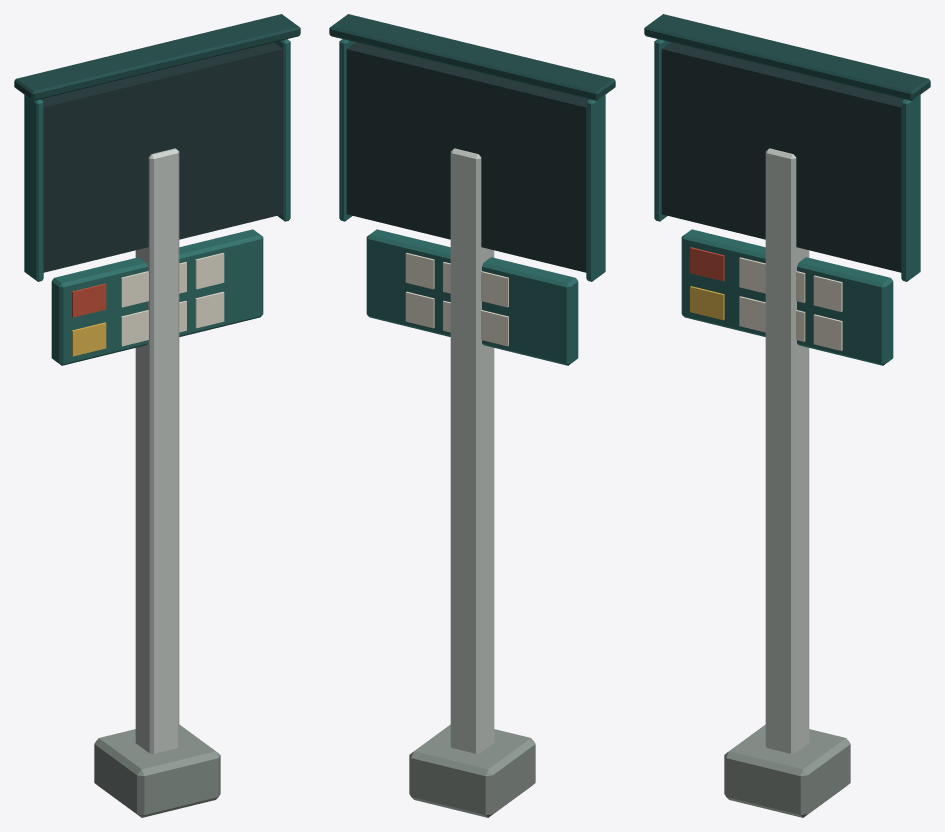
Rendered from sm_env_service_totem.glb.
3 renders of one model, left to right at view 1: azimuth 30°, elevation 25°; view 2: azimuth 150°, elevation 25°; view 3: azimuth 330°, elevation 25°, orthographic.
Parts seen in each view (by area): view 1: BoardFace, Pole, PricePanel, Plinth, BoardRoof, BoardFrameL, BoardFrameR, PriceChip, PriceChip.001, PriceDigit.010, PriceDigit.004, PriceDigit.006 (+1 smaller); view 2: BoardFace, Pole, PricePanel, Plinth, BoardRoof, BoardFrameL, BoardFrameR, PriceDigit.011, PriceDigit.005, PriceDigit.007, PriceDigit.001; view 3: BoardFace, Pole, PricePanel, Plinth, BoardRoof, BoardFrameR, BoardFrameL, PriceChip, PriceChip.001, PriceDigit.004, PriceDigit.010, PriceDigit (+1 smaller).
Boxes of the visible parts, x1,y1,x2,y2 form: BoardFace: (41, 42, 283, 272); Pole: (135, 148, 179, 753); PricePanel: (51, 229, 263, 365); Plinth: (94, 724, 220, 817); BoardRoof: (14, 14, 300, 100); BoardFrameL: (24, 95, 43, 281); BoardFrameR: (274, 39, 290, 221); PriceChip: (72, 283, 106, 317); PriceChip.001: (72, 322, 106, 356); PriceDigit.010: (195, 291, 224, 328); PriceDigit.004: (195, 253, 224, 289); PriceDigit.006: (121, 310, 148, 346); BoardFace: (346, 42, 588, 272); Pole: (450, 148, 494, 753); PricePanel: (366, 229, 578, 365); Plinth: (409, 724, 535, 817); BoardRoof: (329, 14, 615, 100); BoardFrameL: (586, 95, 605, 281); BoardFrameR: (339, 39, 355, 221); PriceDigit.011: (405, 291, 434, 328); PriceDigit.005: (405, 253, 434, 289); PriceDigit.007: (481, 310, 508, 346); PriceDigit.001: (481, 271, 508, 307); BoardFace: (661, 42, 903, 272); Pole: (765, 148, 809, 753); PricePanel: (681, 229, 893, 365); Plinth: (724, 724, 850, 817); BoardRoof: (644, 14, 930, 100); BoardFrameR: (901, 95, 920, 281); BoardFrameL: (654, 39, 670, 221); PriceChip: (690, 247, 724, 281); PriceChip.001: (690, 286, 724, 320); PriceDigit.004: (813, 275, 842, 311); PriceDigit.010: (813, 314, 842, 350); PriceDigit: (739, 257, 765, 293).
Size of the model in its own units: 2.9 by 7.62 by 0.9.
